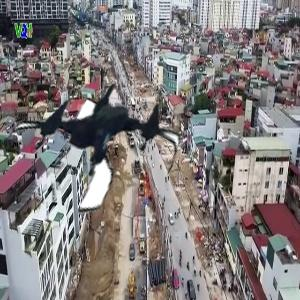drone: (17, 61, 179, 223)
